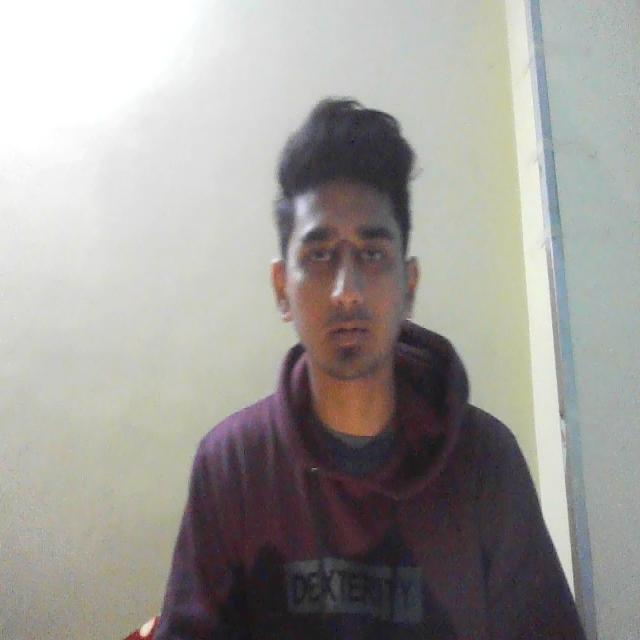real: (278, 117, 434, 412)
